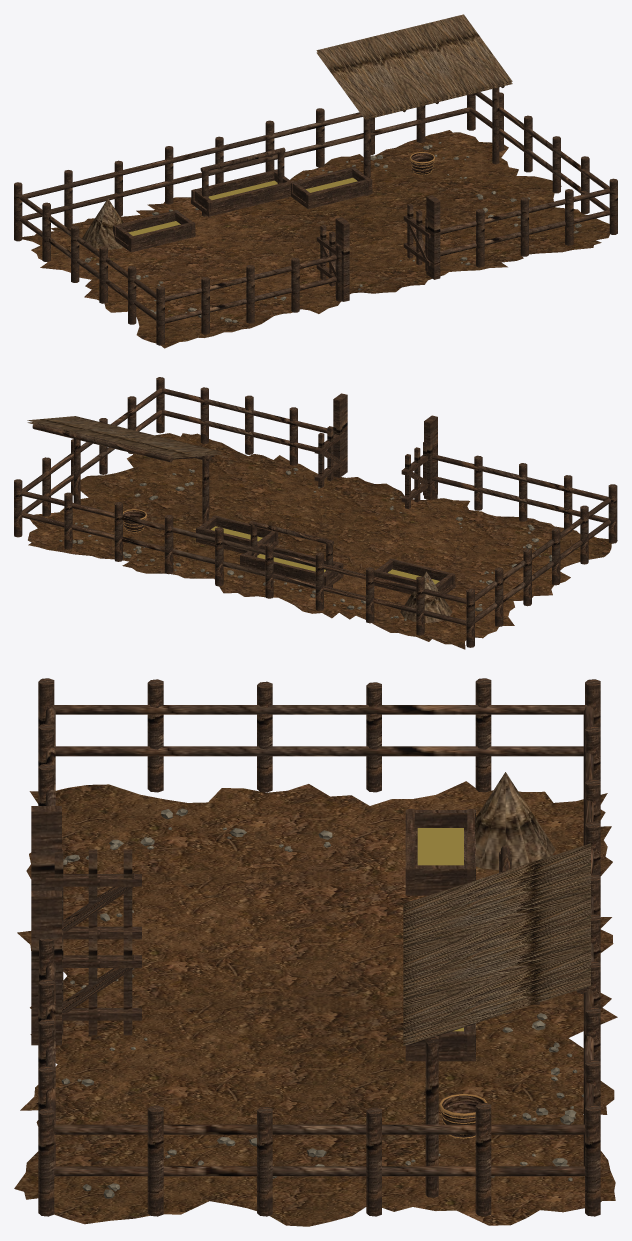
Rendered from pasture@2.glb.
3 views of the same model, one above another, from view 1: azimuth 30°, elevation 25°; view 2: azimuth 150°, elevation 25°; view 3: azimuth 270°, elevation 25° (orthographic). The views are drawn at different scales.
Visible parts, largest first — view 1: part_0, part_2, part_6, part_3, part_1; view 2: part_0, part_2, part_6, part_1, part_3; view 3: part_0, part_2, part_6, part_1, part_3, part_4.
Part boxes in pixels (<box>): part_0: <box>22,130,609,348</box>; part_2: <box>14,86,617,345</box>; part_6: <box>82,14,512,249</box>; part_3: <box>128,177,357,235</box>; part_1: <box>84,142,581,322</box>; part_0: <box>28,433,617,649</box>; part_2: <box>14,377,617,647</box>; part_6: <box>27,416,452,622</box>; part_1: <box>59,468,551,620</box>; part_3: <box>211,526,439,584</box>; part_0: <box>14,781,617,1226</box>; part_2: <box>31,678,600,1216</box>; part_6: <box>403,772,590,1045</box>; part_1: <box>61,808,583,1198</box>; part_3: <box>417,828,463,1031</box>; part_4: <box>441,1095,484,1137</box>.
Size of the model in its own units: 7.59 by 1.81 by 4.35.
Materials: 7 (5 with a texture image).
